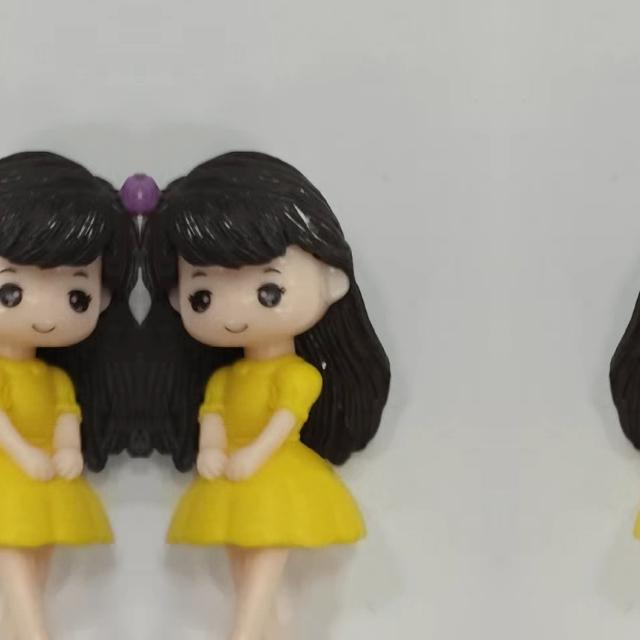woman dress: (164, 344, 350, 636), (0, 344, 115, 635)
woman head: (140, 144, 372, 358), (0, 144, 140, 357), (628, 144, 640, 357)
